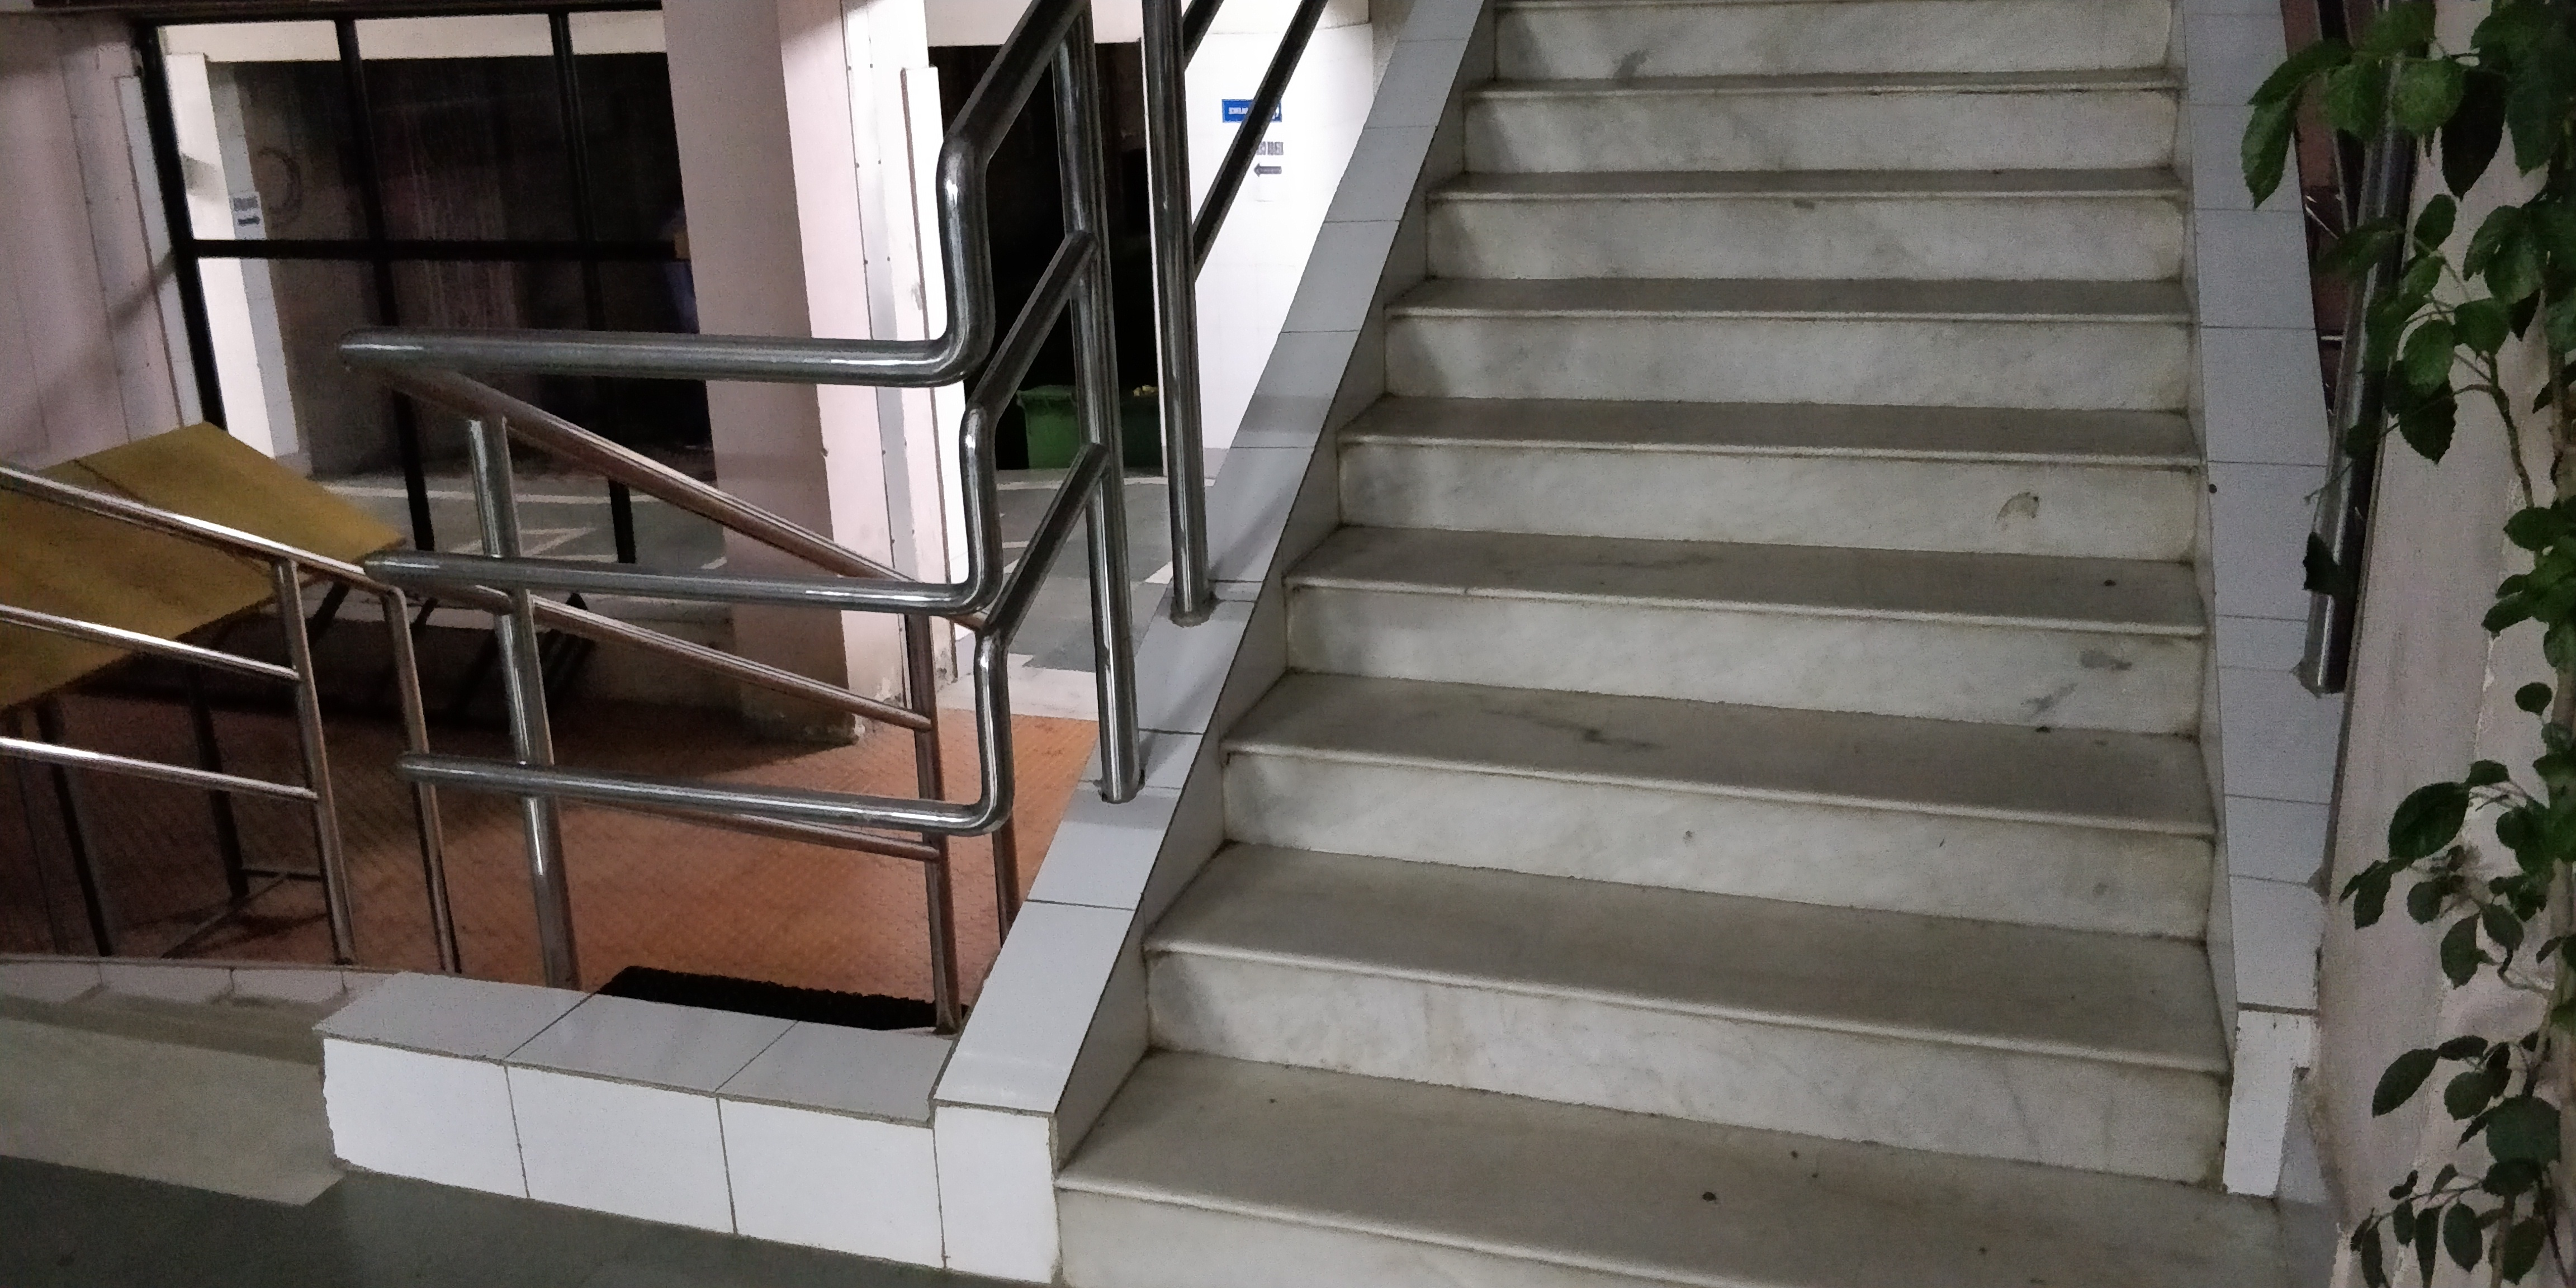stairs_up: (1005, 13, 2249, 1288)
